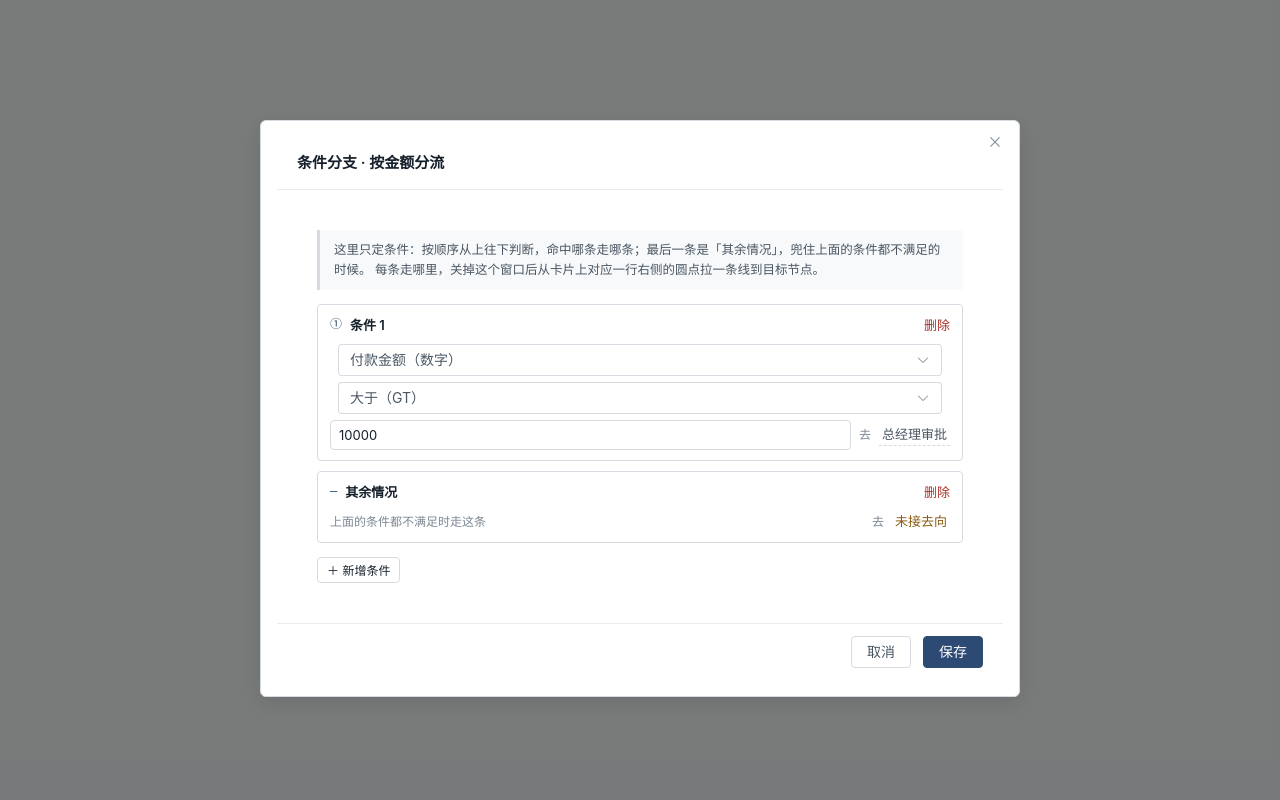
条件分支编辑器 › 「新增条件」插在其余情况之前
The image size is (1280, 800).
Step 1. Click the button "＋ 新增条件" → (359, 570), box [317,557,400,583]
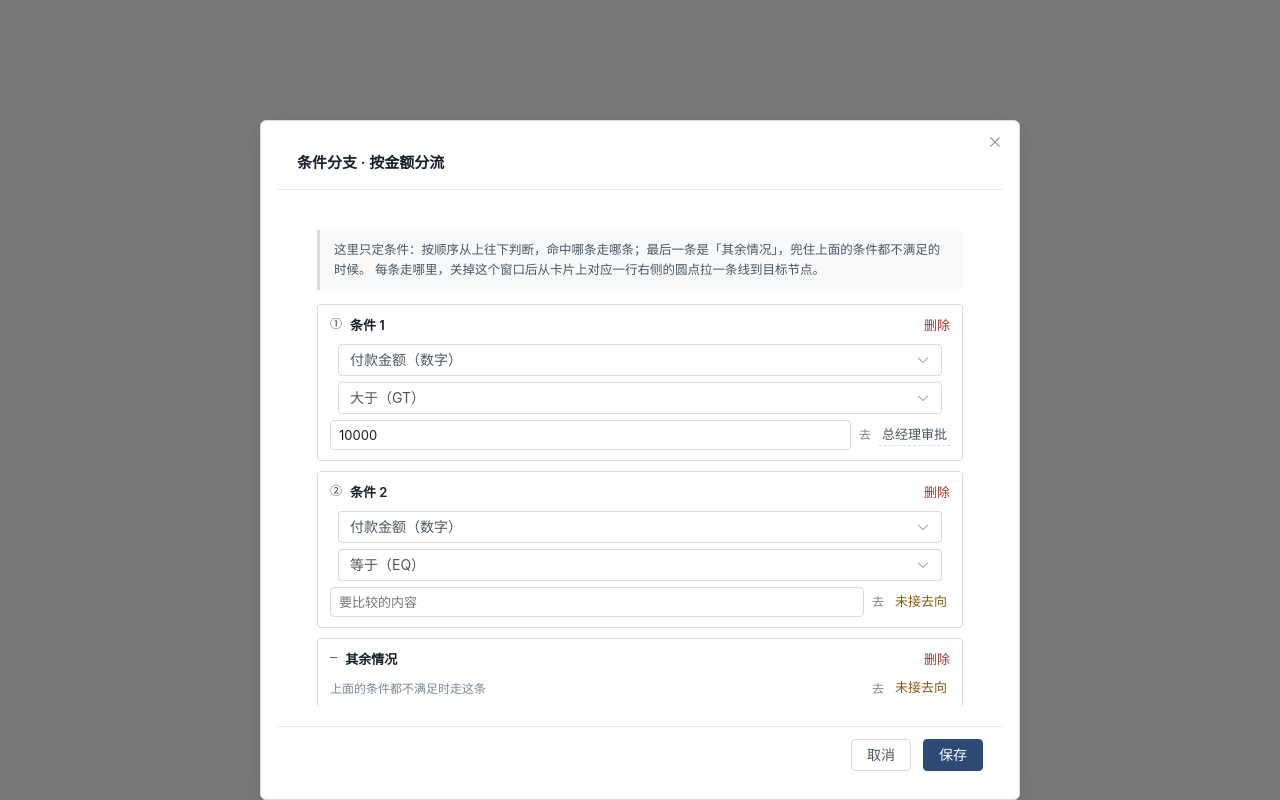
Check: the element with class "branch-row" shows "其余情况", box [345,651,397,667]
Check: the number of elements with class "branch-row" is 3, box [317,304,963,461]; [317,471,963,628]; [317,638,963,706]
Check: the element with class "branch-row" shows "条件 2", box [350,484,387,500]
